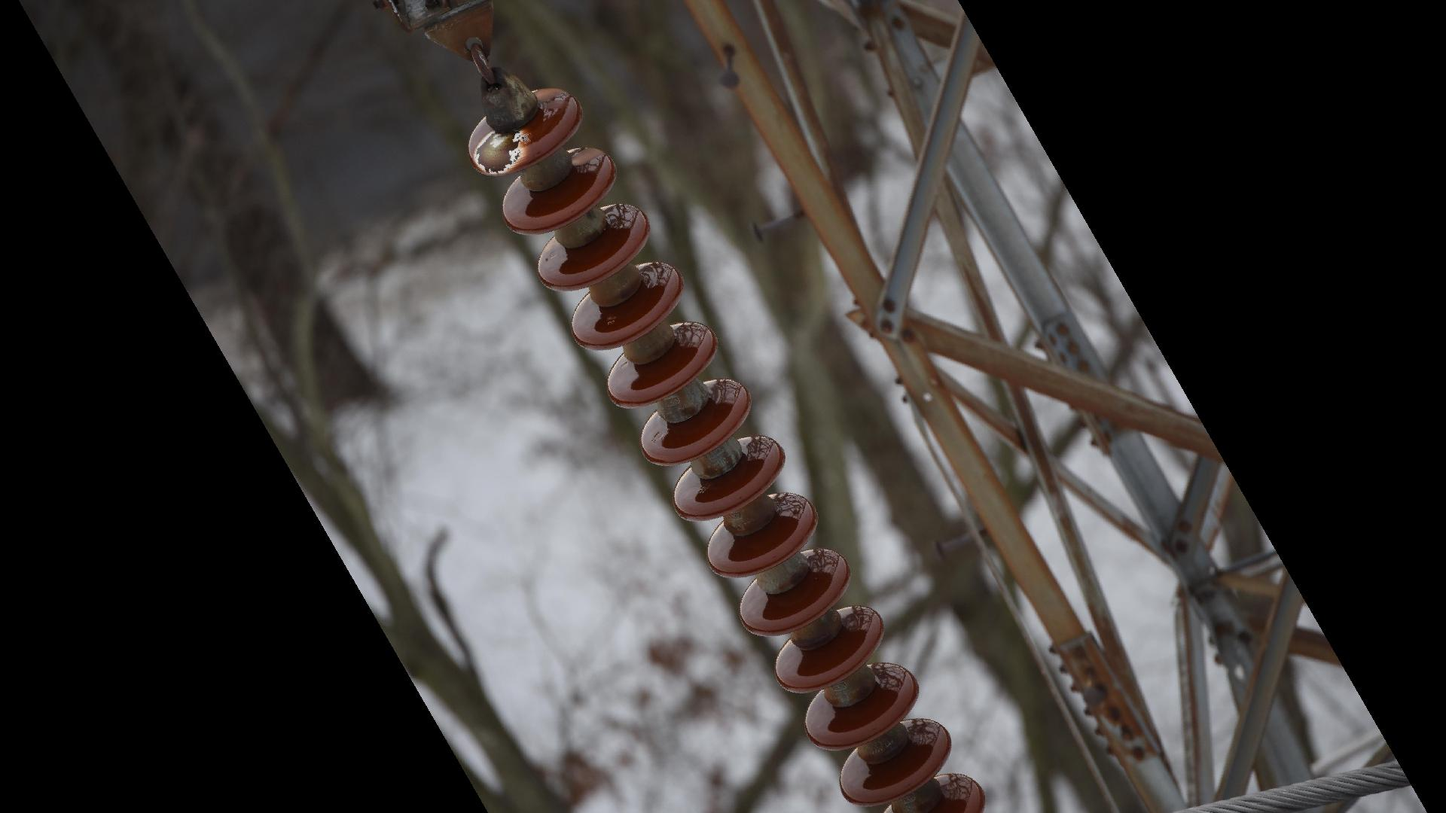insulator: (462, 82, 992, 813)
insulator_flashover: (472, 126, 532, 178)
